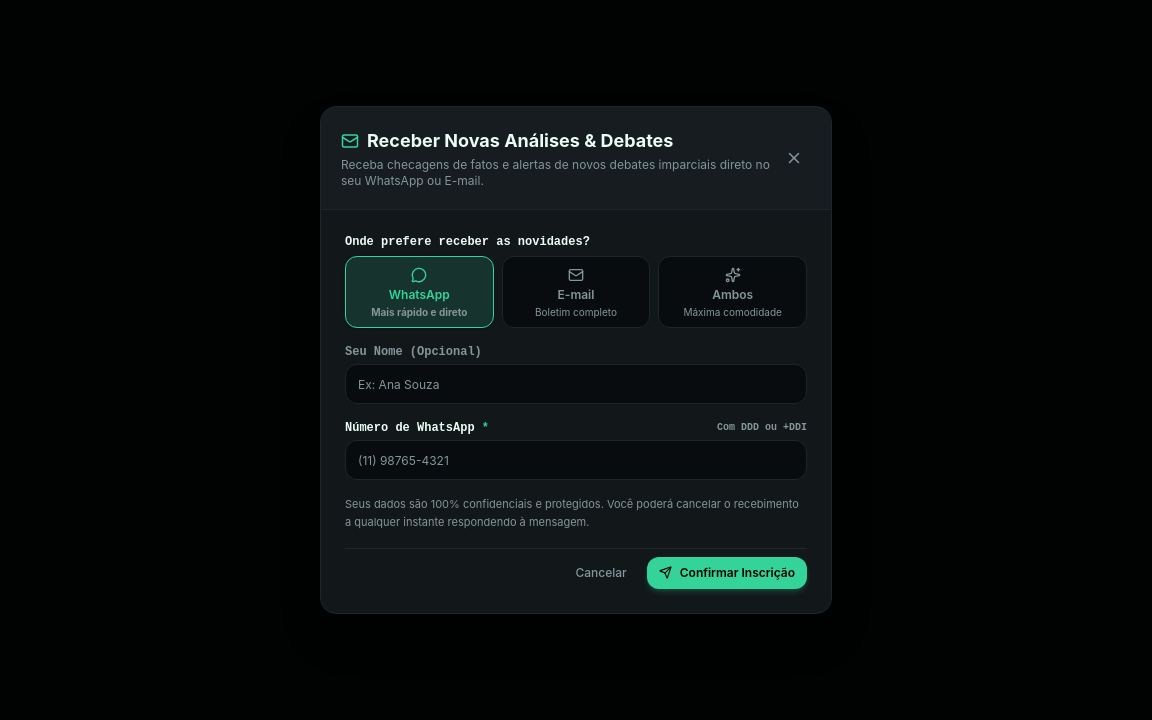
Scenario: NewsletterModal › switches between WhatsApp, E-mail and Ambos channels
The width and height of the screenshot is (1152, 720).
Check: the field labelled "Número de WhatsApp * Com DDD ou +DDI" is shown, box [345,440,807,480]
Check: the field labelled "Endereço de E-mail" is not shown
Note: Switch to E-mail
What coordinates should you click on to do the following:
click the button "E-mail Boletim completo"
I would click on:
 (576, 292)
Its box is [502,256,650,328].
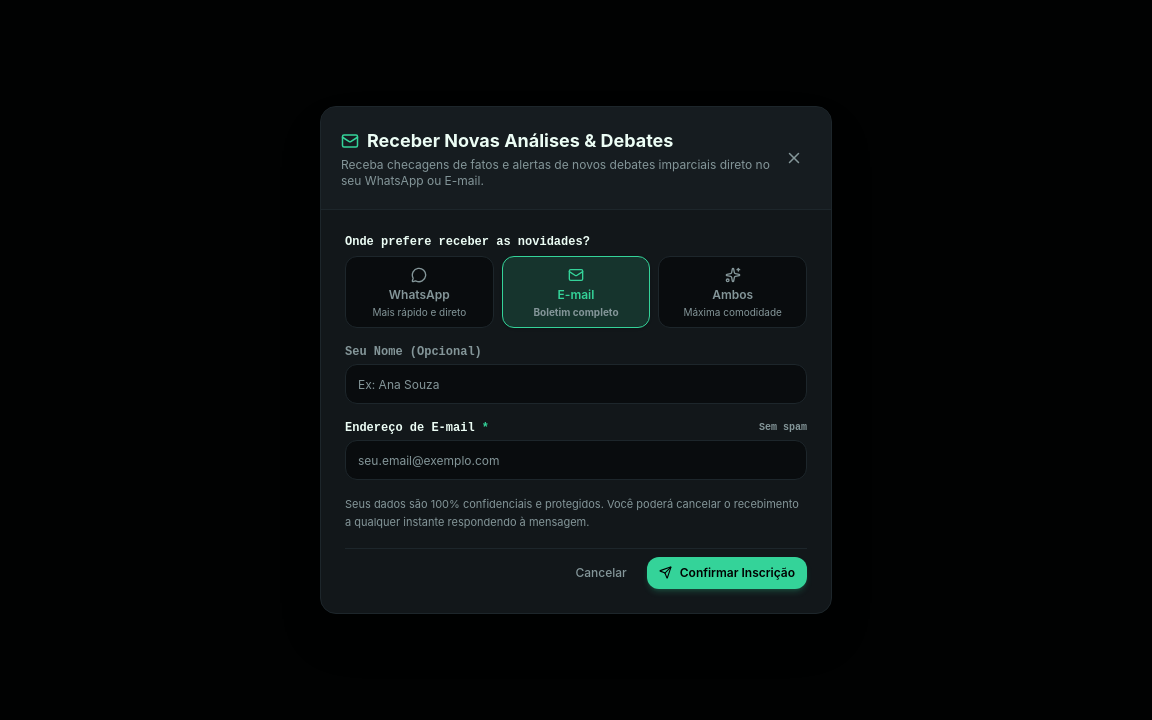
Check: the field labelled "Número de WhatsApp" is gone
Check: the field labelled "Endereço de E-mail * Sem spam" is shown, box [345,440,807,480]
Note: Switch to Ambos
What coordinates should you click on to do the following:
click the button "Ambos Máxima comodidade"
I would click on:
 (733, 292)
Its box is [658,256,807,328].
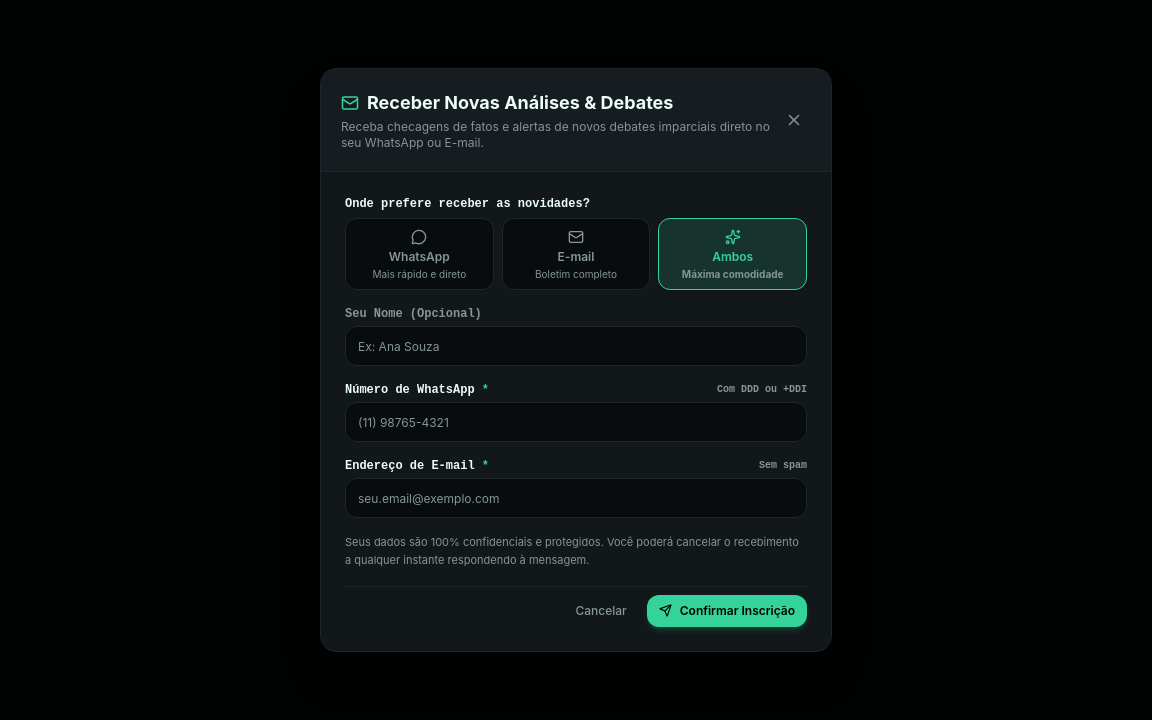
Check: the field labelled "Endereço de E-mail * Sem spam" is shown, box [345,478,807,518]
Check: the field labelled "Número de WhatsApp * Com DDD ou +DDI" is shown, box [345,402,807,442]
